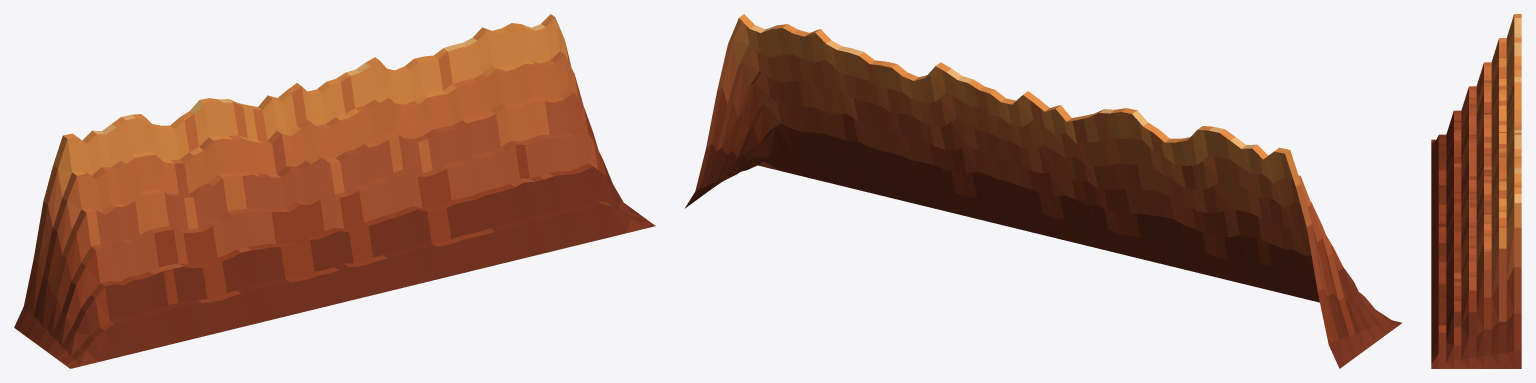
Rendered from W5_Far_WallsB.fbx.
3 renders of one model, left to right at view 1: azimuth 30°, elevation 25°; view 2: azimuth 150°, elevation 25°; view 3: azimuth 270°, elevation 25°, orthographic. The views are drawn at different scales.
Parts seen in each view (by area): view 1: W5_Far_WallsB; view 2: W5_Far_WallsB; view 3: W5_Far_WallsB.
Boxes of the visible parts, x1,y1,x2,y2 form: W5_Far_WallsB: (14,14,655,368); W5_Far_WallsB: (684,14,1402,368); W5_Far_WallsB: (1431,14,1521,368).
Bounding box in the file's own units: 480 × 146 × 80.
